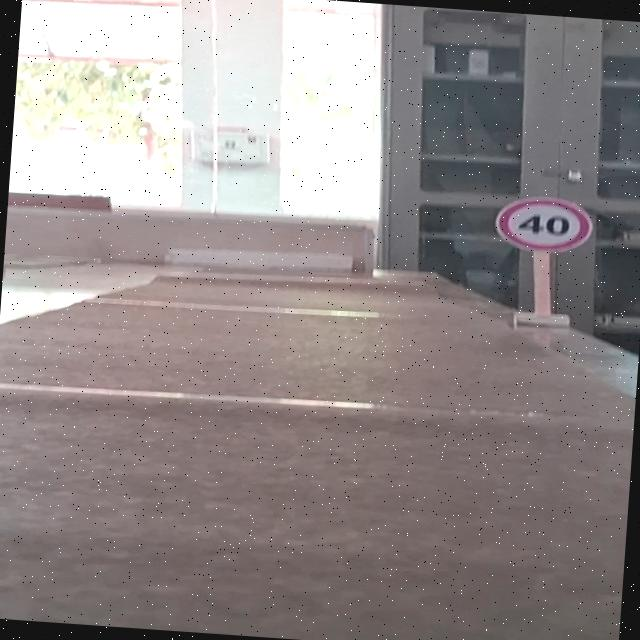Speed40: (486, 189, 602, 259)
